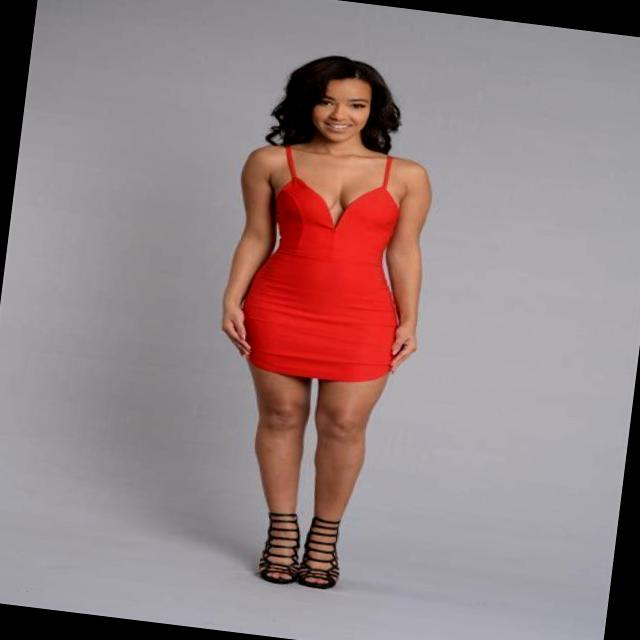dress: (233, 139, 421, 389)
